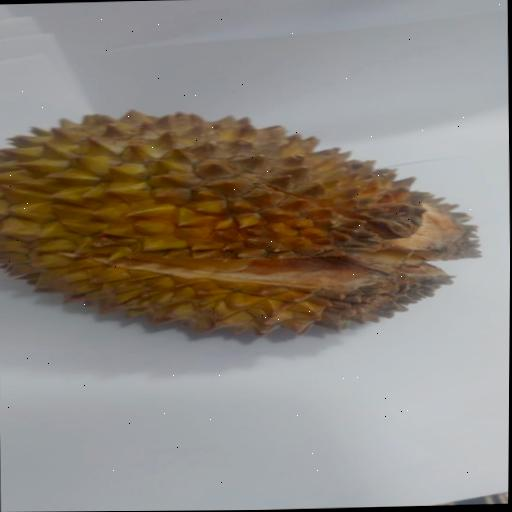rot: (0, 86, 504, 353)
